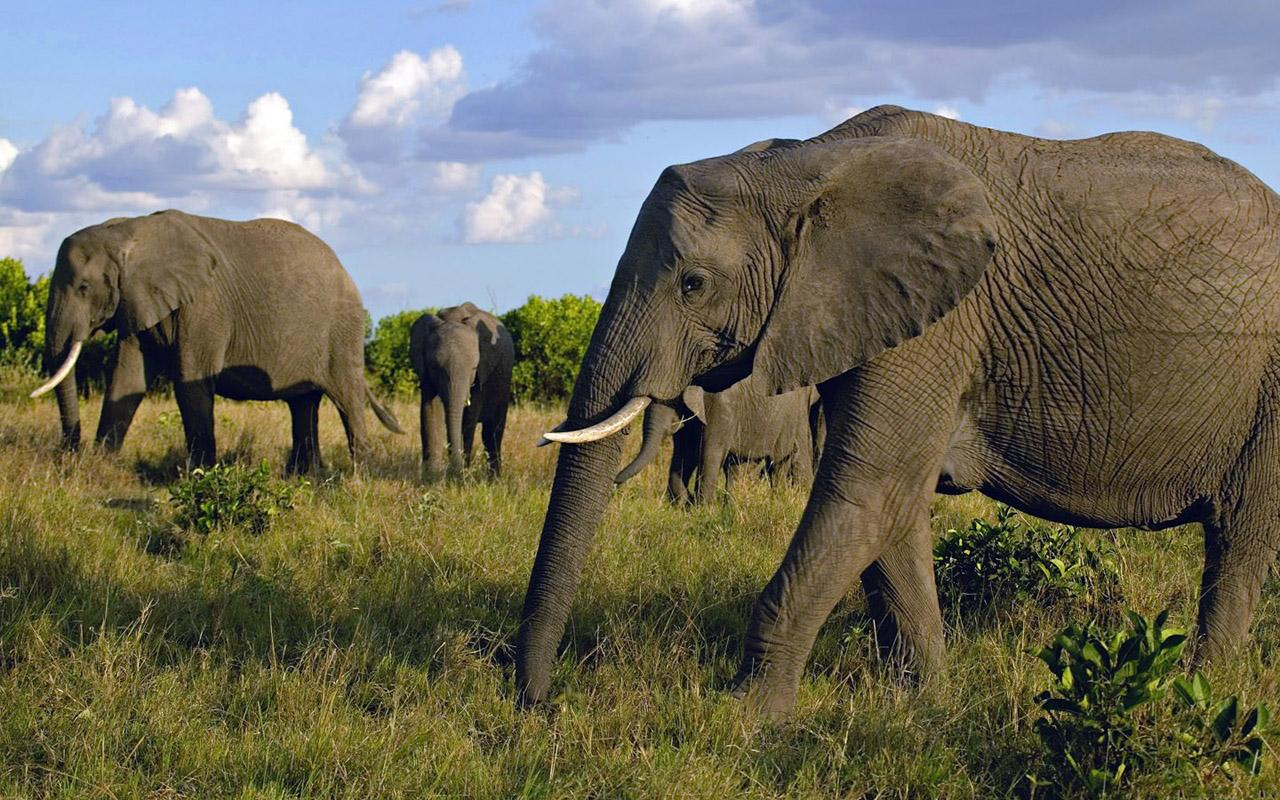africanelephant: (479, 90, 997, 534)
